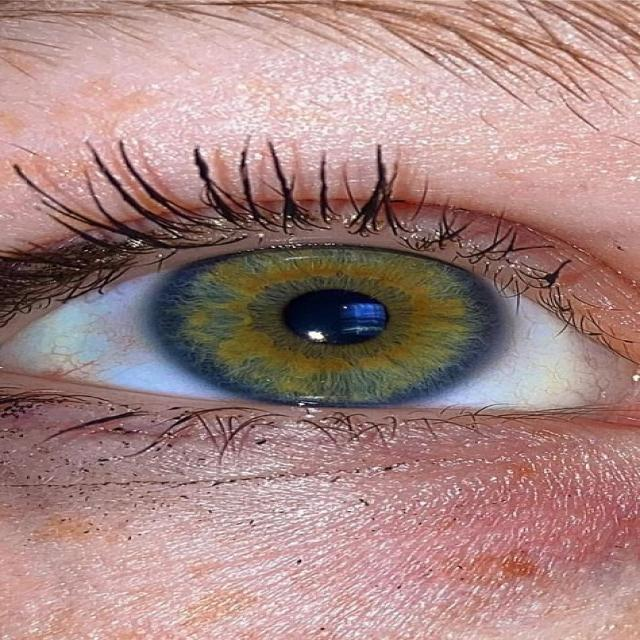Normal: (4, 107, 640, 552)
